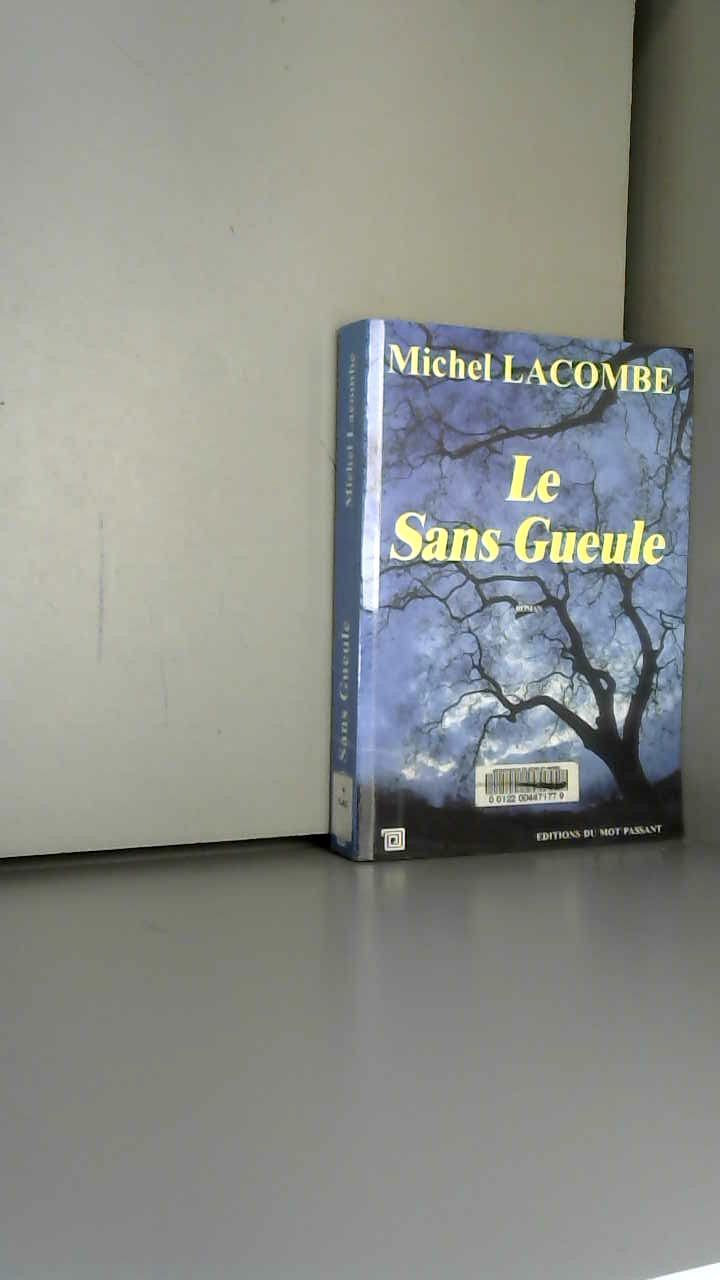book: (300, 290, 716, 885)
